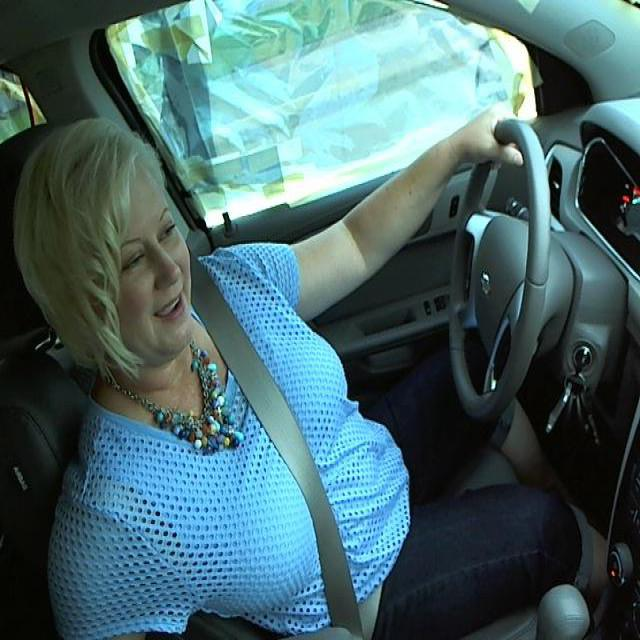seatbelt: (184, 300, 388, 627)
